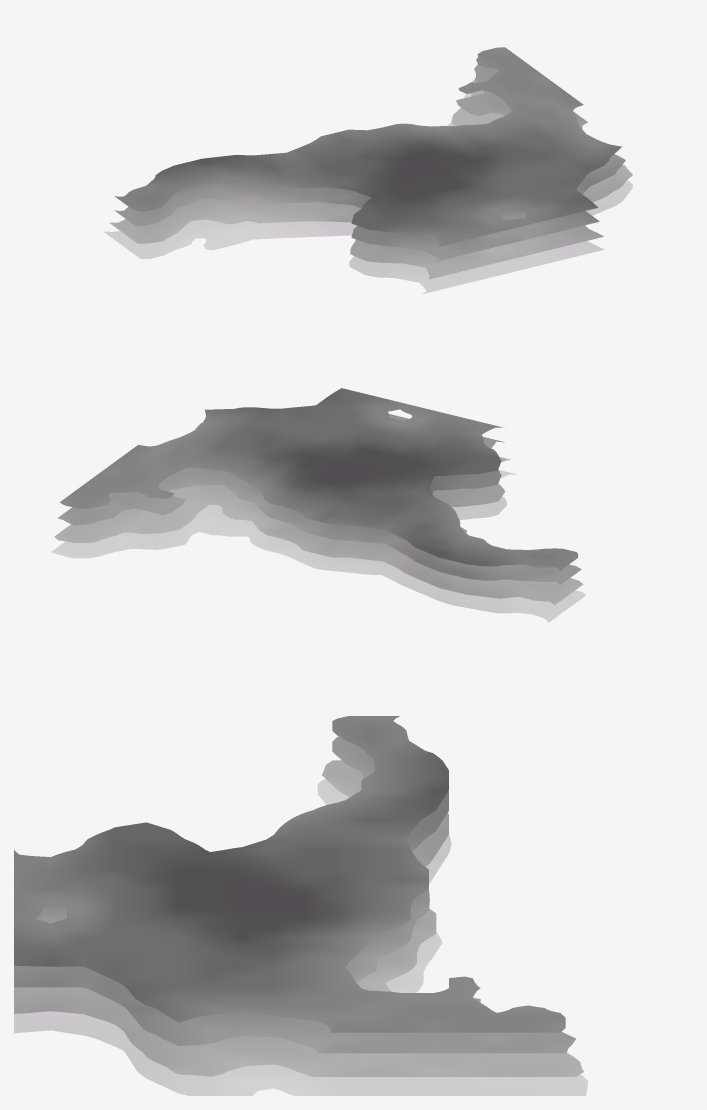
File: SWORDLIGHT20_MAINCAVERNCLOUDS05.fbx
The picture shows the model from 3 angles, top to bottom: view 1: azimuth 30°, elevation 25°; view 2: azimuth 150°, elevation 25°; view 3: azimuth 270°, elevation 25°; orthographic projection. The views are drawn at different scales.
Parts seen in each view (by area): view 1: SWORDLIGHT20_MAINCAVERNCLOUDS05; view 2: SWORDLIGHT20_MAINCAVERNCLOUDS05; view 3: SWORDLIGHT20_MAINCAVERNCLOUDS05.
Part boxes in pixels (box(x1,y1,x2,y2)): SWORDLIGHT20_MAINCAVERNCLOUDS05: box(104, 47, 632, 294); SWORDLIGHT20_MAINCAVERNCLOUDS05: box(51, 388, 585, 622); SWORDLIGHT20_MAINCAVERNCLOUDS05: box(14, 716, 588, 1095).
Bounding box in the file's own units: 161490 × 15056 × 146334.
4 materials, 4 textured.
